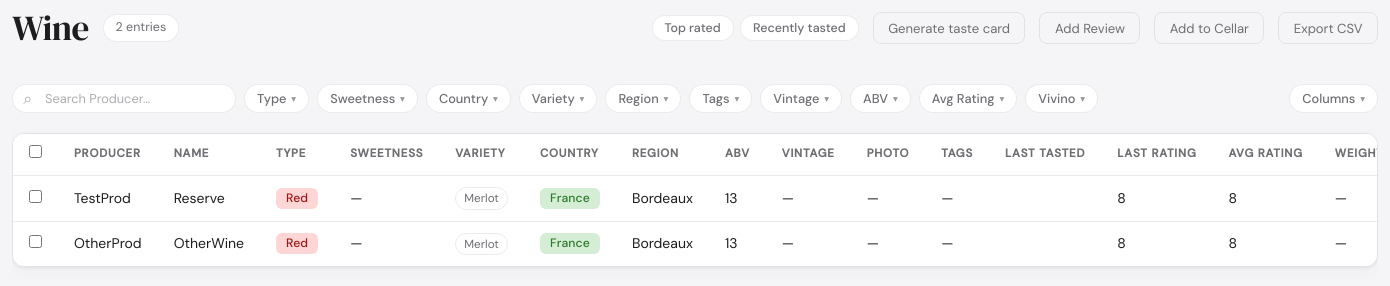
it: count badge shows filtered / total when search narrows results
Expected: the text "Reserve" is shown, [158,176,260,221]
Type "TestProd" into the field with test id "producer-search". click: (124, 99)
box: [12,84,236,113]
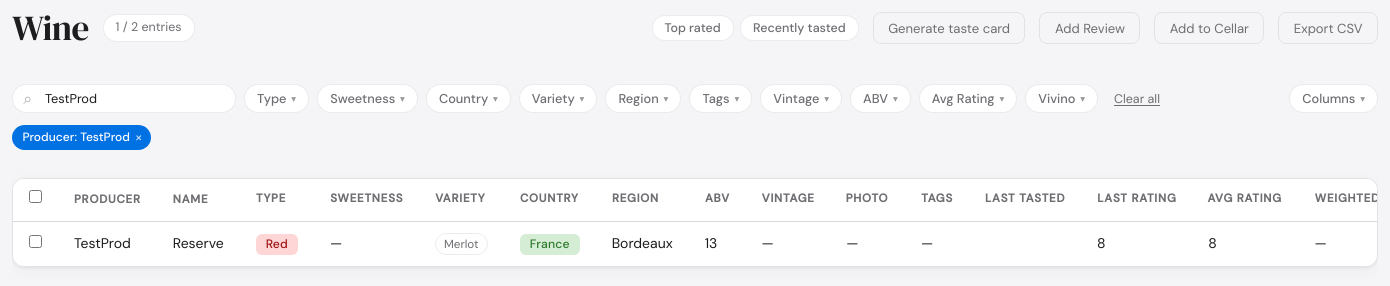
Result: the text "1 / 2 entries" is shown at [102,14,194,42]
